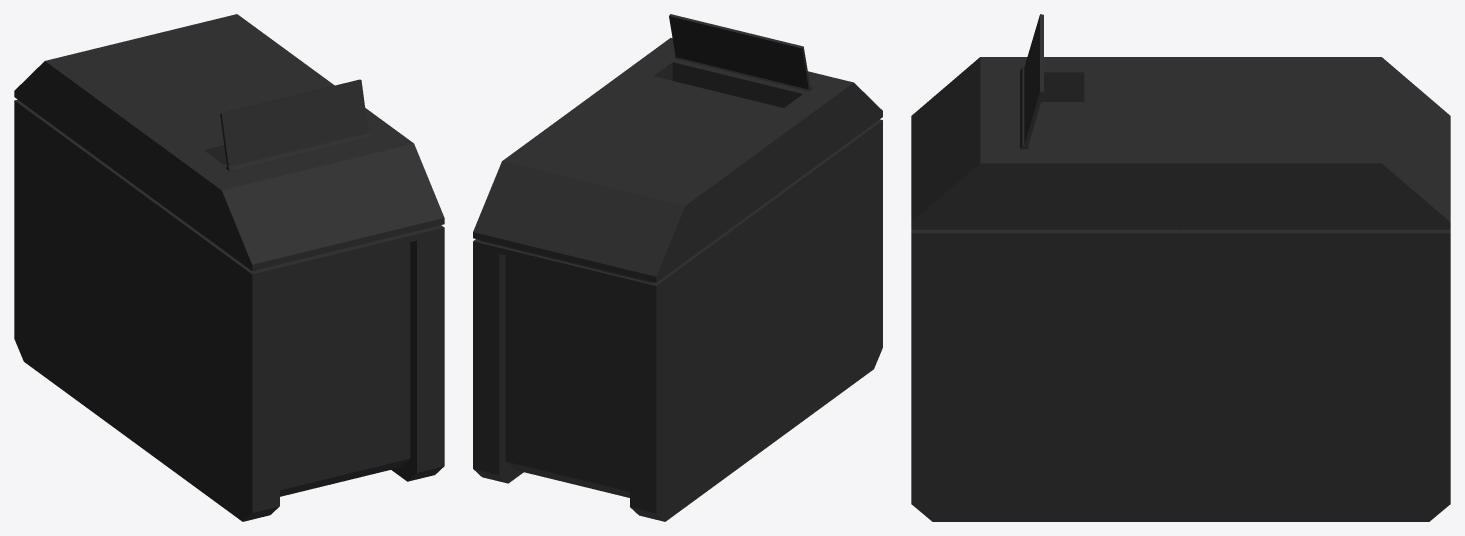
File: LMG3_05_2.fbx
3 views of the same model, side by side, from view 1: azimuth 30°, elevation 25°; view 2: azimuth 150°, elevation 25°; view 3: azimuth 270°, elevation 25° (orthographic). The views are drawn at different scales.
Parts seen in each view (by area): view 1: LMG3_05_2; view 2: LMG3_05_2; view 3: LMG3_05_2.
Boxes of the visible parts, x1,y1,x2,y2 form: LMG3_05_2: (14,14,444,521); LMG3_05_2: (473,14,882,521); LMG3_05_2: (911,14,1450,521).
Size of the model in its own units: 0.1003 by 0.1827 by 0.2147.
